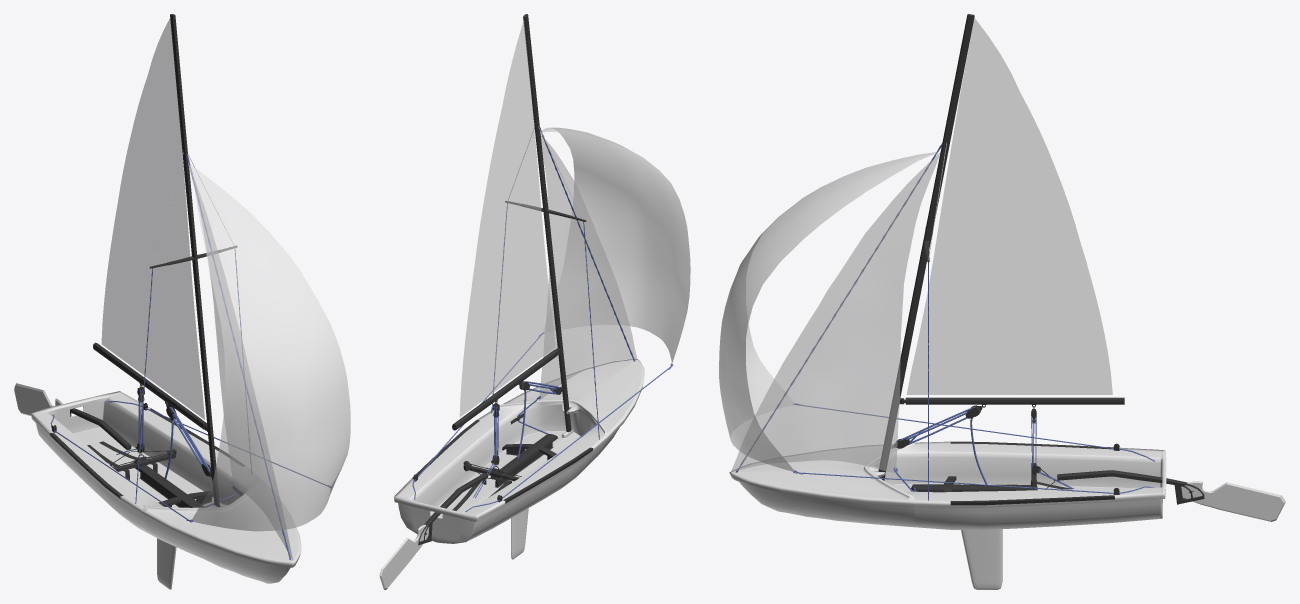
Rendered from Sailing470_v2016.fbx.
The picture shows the model from 3 angles, left to right: view 1: azimuth 30°, elevation 25°; view 2: azimuth 150°, elevation 25°; view 3: azimuth 270°, elevation 25°; orthographic projection. The views are drawn at different scales.
Parts seen in each view (by area): view 1: SpinSail, MainSail, Body, ZibuSail, mast, boom, oar, centerboard, Heri1, Sheet_A, Wire_S, Rope1 (+1 smaller); view 2: SpinSail, MainSail, Body, ZibuSail, mast, oar, boom, Heri1, centerboard, Sheet_A, oars_stick, Wire_S (+1 smaller); view 3: MainSail, Body, ZibuSail, SpinSail, mast, oar, centerboard, boom, Heri1, oars_stick, Sheet_A.
Part boxes in pixels (bbox=[...]): SpinSail: bbox=[188, 163, 350, 531]; MainSail: bbox=[101, 18, 204, 419]; Body: bbox=[30, 391, 301, 583]; ZibuSail: bbox=[192, 178, 292, 560]; mast: bbox=[170, 14, 219, 506]; boom: bbox=[93, 342, 206, 429]; oar: bbox=[14, 383, 62, 415]; centerboard: bbox=[157, 538, 176, 589]; Heri1: bbox=[50, 408, 244, 498]; Sheet_A: bbox=[135, 465, 204, 507]; Wire_S: bbox=[186, 153, 290, 560]; Rope1: bbox=[164, 406, 210, 481]; SpinSail: bbox=[542, 127, 690, 363]; MainSail: bbox=[459, 20, 555, 416]; Body: bbox=[394, 359, 644, 543]; ZibuSail: bbox=[539, 134, 636, 400]; mast: bbox=[523, 14, 571, 432]; oar: bbox=[379, 524, 429, 589]; boom: bbox=[452, 349, 558, 430]; Heri1: bbox=[412, 420, 593, 503]; centerboard: bbox=[511, 508, 528, 559]; Sheet_A: bbox=[490, 434, 557, 480]; oars_stick: bbox=[418, 473, 488, 545]; Wire_S: bbox=[540, 127, 635, 361]; MainSail: bbox=[906, 18, 1112, 394]; Body: bbox=[729, 441, 1166, 529]; ZibuSail: bbox=[731, 152, 940, 473]; SpinSail: bbox=[719, 151, 939, 471]; mast: bbox=[878, 14, 974, 480]; oar: bbox=[1181, 481, 1285, 521]; centerboard: bbox=[961, 529, 1002, 589]; boom: bbox=[905, 397, 1124, 404]; Heri1: bbox=[950, 441, 1114, 505]; oars_stick: bbox=[1057, 470, 1204, 504]; Sheet_A: bbox=[911, 484, 1037, 492].
Bounding box in the file's own units: 21.3 × 82.57 × 73.73.
